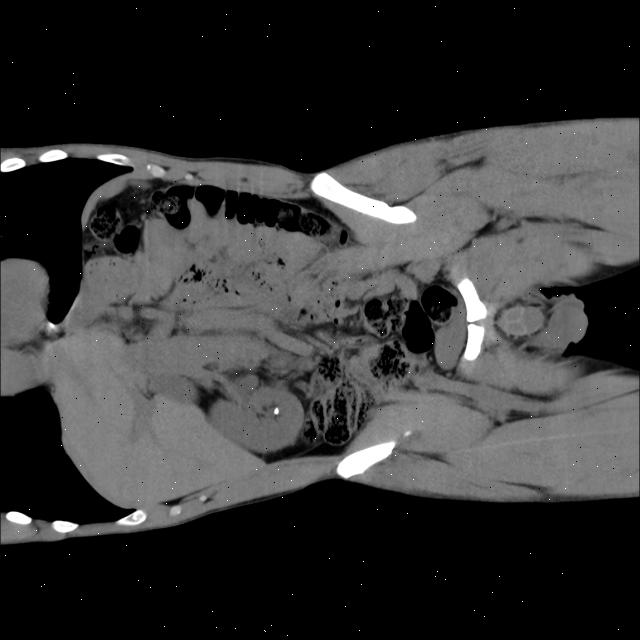kidneystone: (272, 406, 279, 414)
